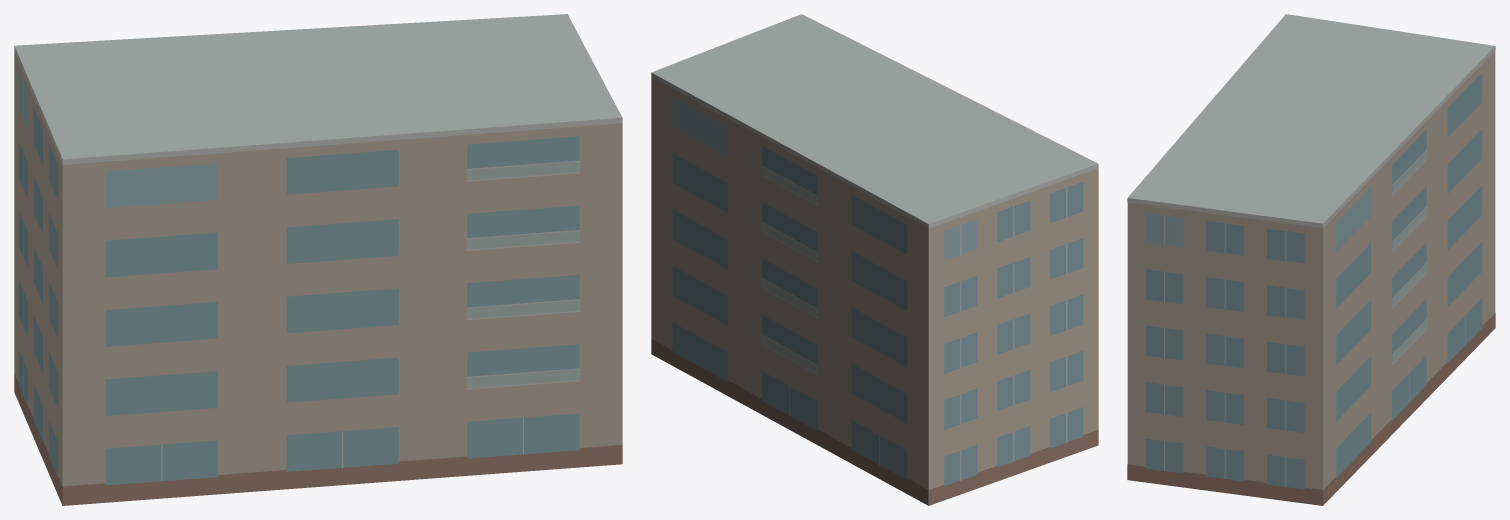
Rendered from survey-upis-32648238.glb.
The picture shows the model from 3 angles, left to right: view 1: azimuth 30°, elevation 25°; view 2: azimuth 150°, elevation 25°; view 3: azimuth 270°, elevation 25°; orthographic projection. The views are drawn at different scales.
Visible parts, largest first — view 1: survey-upis-32648238.tmp; view 2: survey-upis-32648238.tmp; view 3: survey-upis-32648238.tmp.
Boxes of the visible parts, left/top/right/bottom form: survey-upis-32648238.tmp: left=14, top=14, right=622, bottom=505; survey-upis-32648238.tmp: left=651, top=14, right=1098, bottom=505; survey-upis-32648238.tmp: left=1127, top=14, right=1495, bottom=505.
Bounding box in the file's own units: 24.31 × 15.25 × 18.03.
